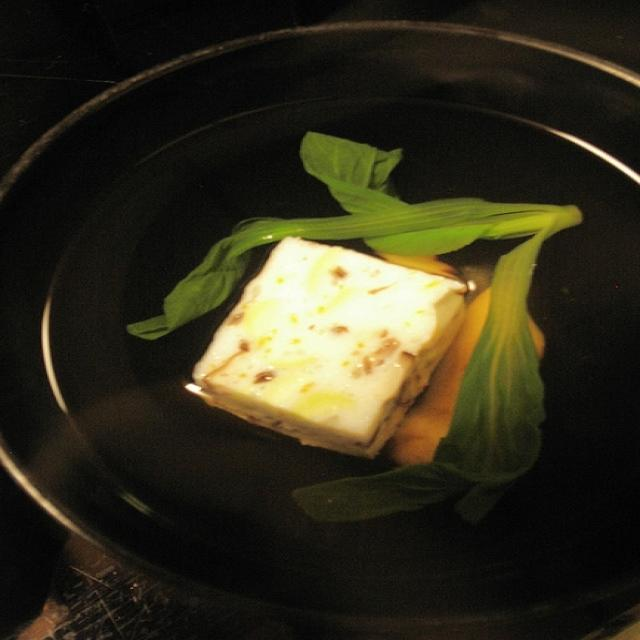汤锅炖物: (55, 103, 631, 586)
